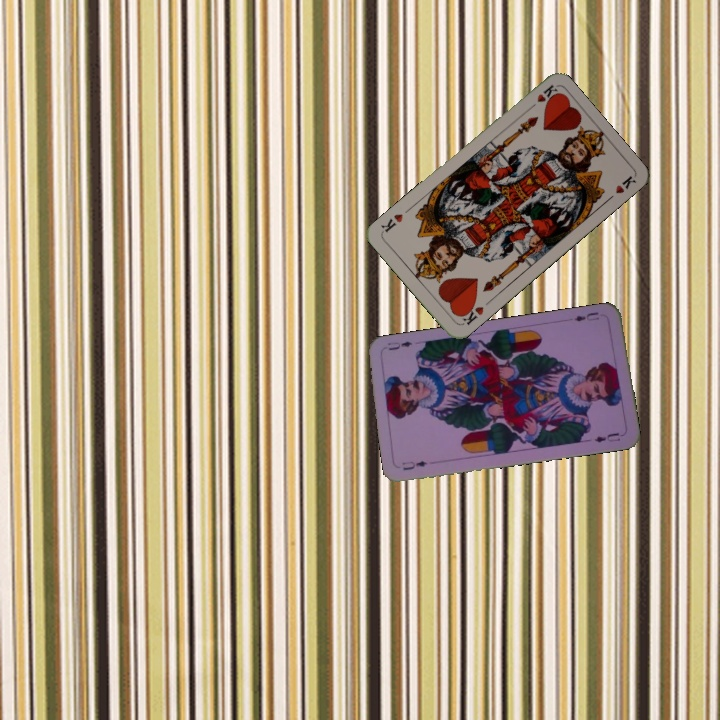EU: (570, 308, 602, 324), (398, 457, 430, 473)
HK: (524, 80, 560, 113), (456, 299, 486, 327)
